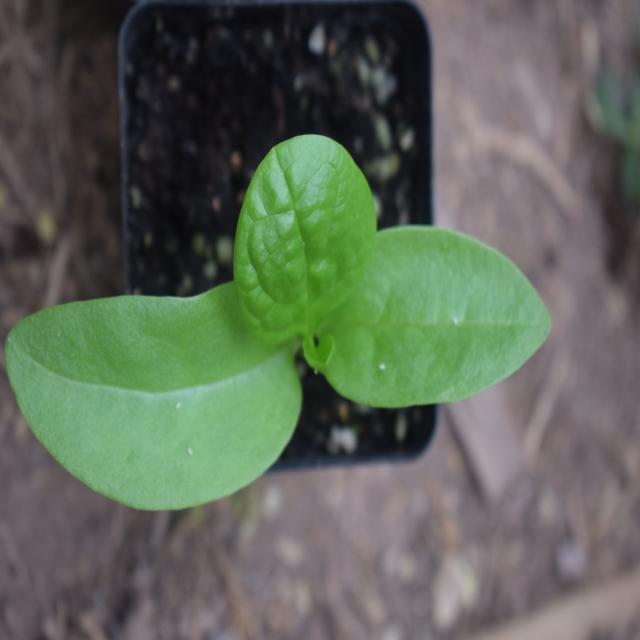Ceylon spinach: (24, 128, 544, 568)
